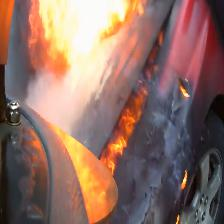fire: (3, 0, 197, 224)
